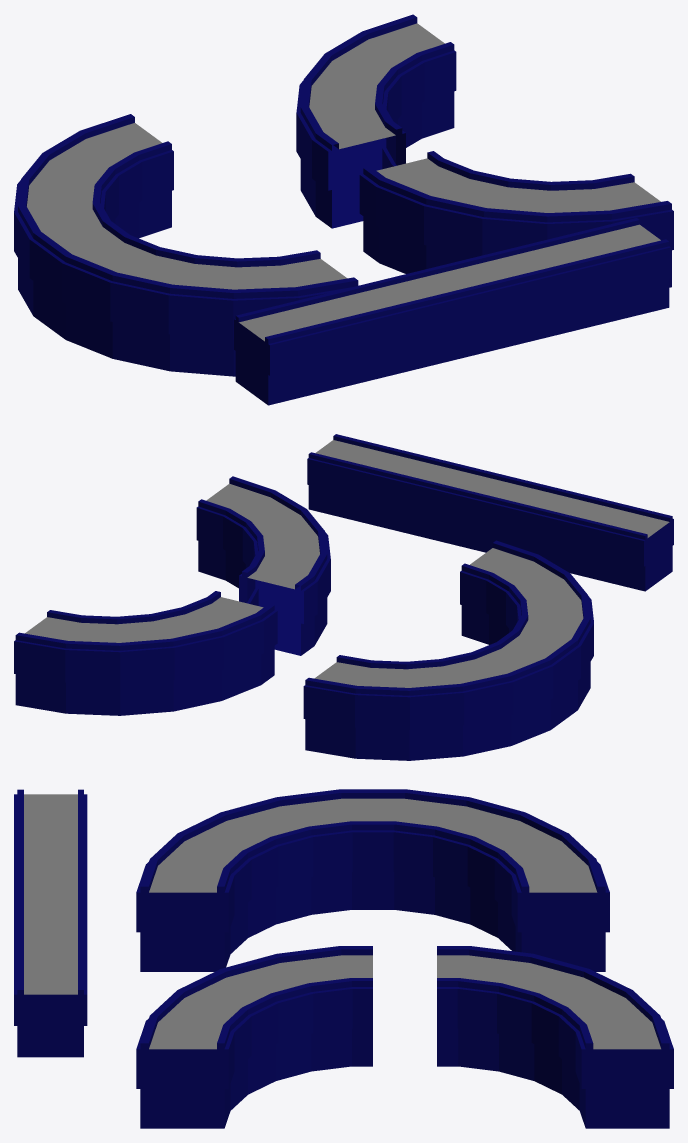
The model's file is Barra transportadora.fbx.
The picture shows the model from 3 angles, top to bottom: view 1: azimuth 30°, elevation 25°; view 2: azimuth 150°, elevation 25°; view 3: azimuth 270°, elevation 25°; orthographic projection. The views are drawn at different scales.
Parts seen in each view (by area): view 1: transportadora 03, transportadora 04, transportadora 02, transportadora 01; view 2: transportadora 03, transportadora 04, transportadora 01, transportadora 02; view 3: transportadora 03, transportadora 01, transportadora 02, transportadora 04.
Part boxes in pixels (x1,y1,x2,y2): transportadora 03: (14, 114, 358, 376); transportadora 04: (234, 218, 670, 405); transportadora 02: (359, 151, 673, 287); transportadora 01: (296, 14, 456, 228); transportadora 03: (303, 540, 593, 760); transportadora 04: (307, 434, 673, 591); transportadora 01: (14, 591, 277, 715); transportadora 02: (196, 476, 330, 655); transportadora 03: (136, 789, 609, 971); transportadora 01: (437, 946, 673, 1128); transportadora 02: (136, 946, 372, 1128); transportadora 04: (14, 789, 87, 1057).
Bounding box in the file's own units: 255 × 50.04 × 279.
